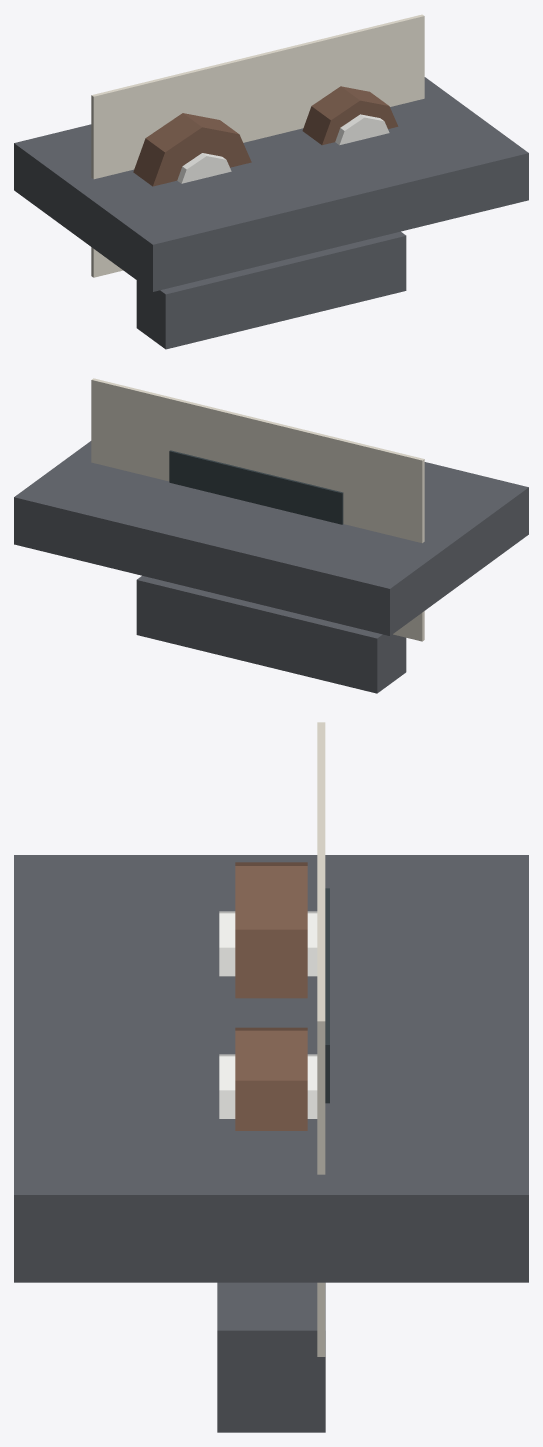
File: cassette_tape.glb
3 renders of one model, top to bottom at view 1: azimuth 30°, elevation 25°; view 2: azimuth 150°, elevation 25°; view 3: azimuth 270°, elevation 25°, orthographic. The views are drawn at different scales.
Visible parts, largest first — view 1: CassetteTape; view 2: CassetteTape; view 3: CassetteTape.
Boxes of the visible parts, x1,y1,x2,y2 form: CassetteTape: [14, 14, 528, 349]; CassetteTape: [14, 378, 528, 693]; CassetteTape: [14, 722, 528, 1432].
Size of the model in its own units: 0.1 by 0.062 by 0.064.
